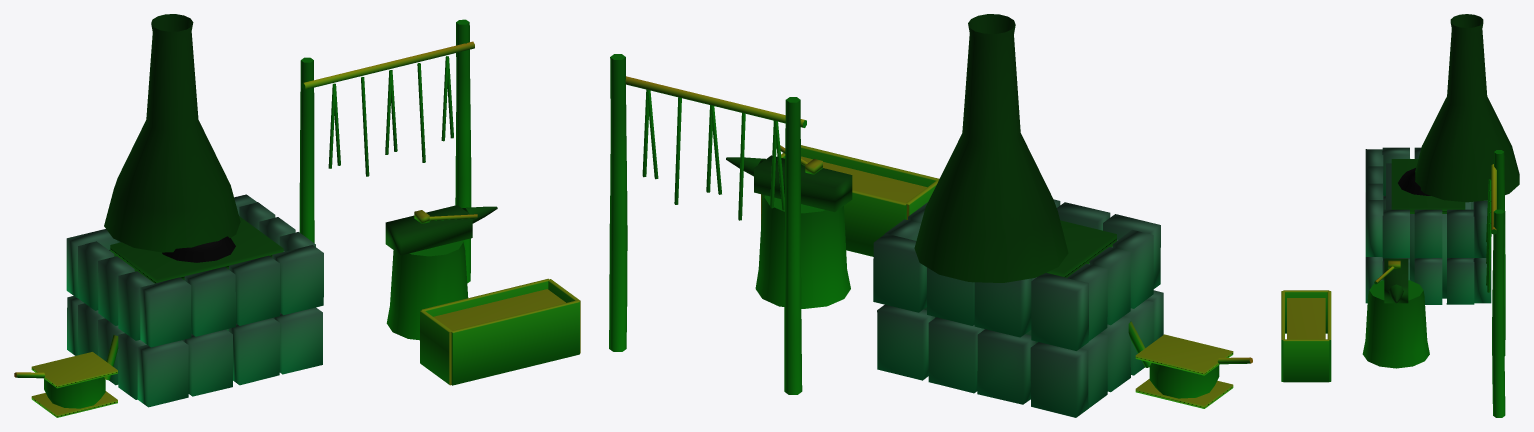
File: beach_forge.glb
3 views of the same model, side by side, from view 1: azimuth 30°, elevation 25°; view 2: azimuth 150°, elevation 25°; view 3: azimuth 270°, elevation 25° (orthographic). The views are drawn at different scales.
Visible parts, largest first — view 1: beach_forge; view 2: beach_forge; view 3: beach_forge.
Part boxes in pixels (box(x1,y1,x2,y2)): beach_forge: box(14, 14, 580, 417); beach_forge: box(609, 14, 1252, 417); beach_forge: box(1281, 14, 1519, 417).
Size of what is drawn, in the model's own units: 3.62 by 2.36 by 1.85.
